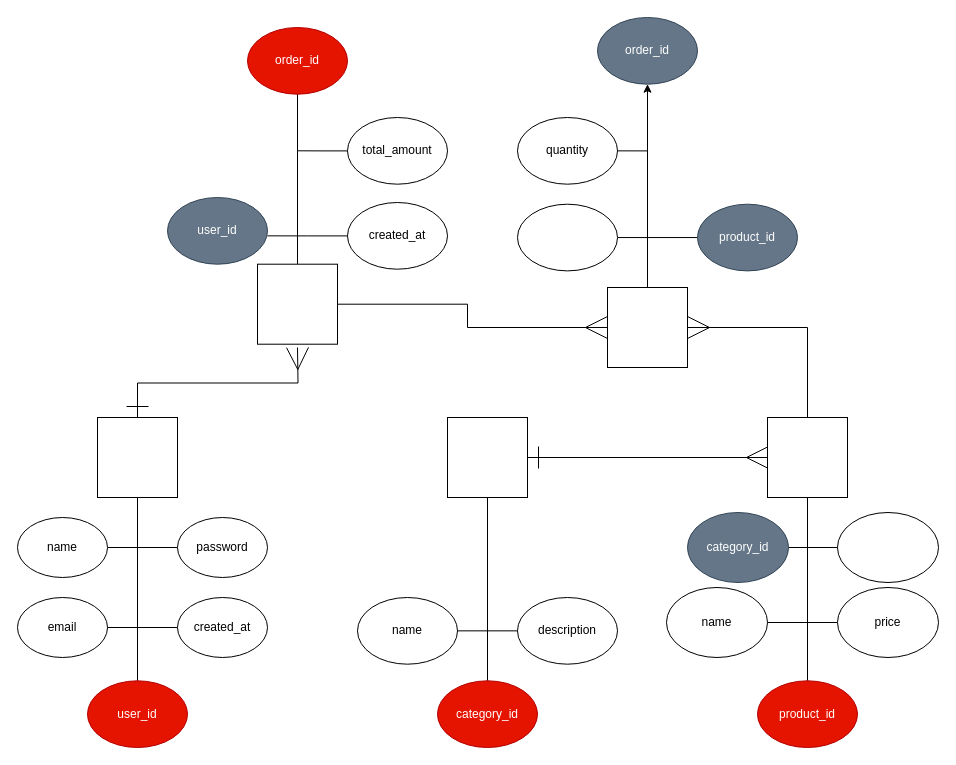
This 956x765 diagram has some shape labels left out. The centre of each missing label's shape, as x and y in pixels:
"Category" belongs at pixel 487 457.
"Order" belongs at pixel 297 303.
"Order_Detail" belongs at pixel 647 327.
"price_at_time" belongs at pixel 567 237.
"Product" belongs at pixel 807 457.
"stock" belongs at pixel 887 547.
"User" belongs at pixel 137 457.
